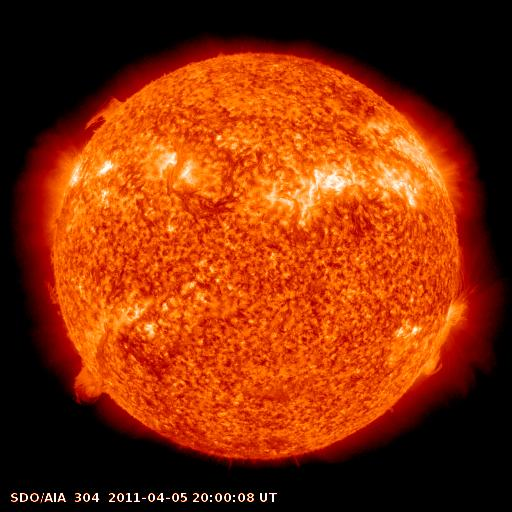prominence: (61, 354, 112, 413), (81, 85, 135, 138), (448, 243, 484, 308), (407, 342, 449, 384)
